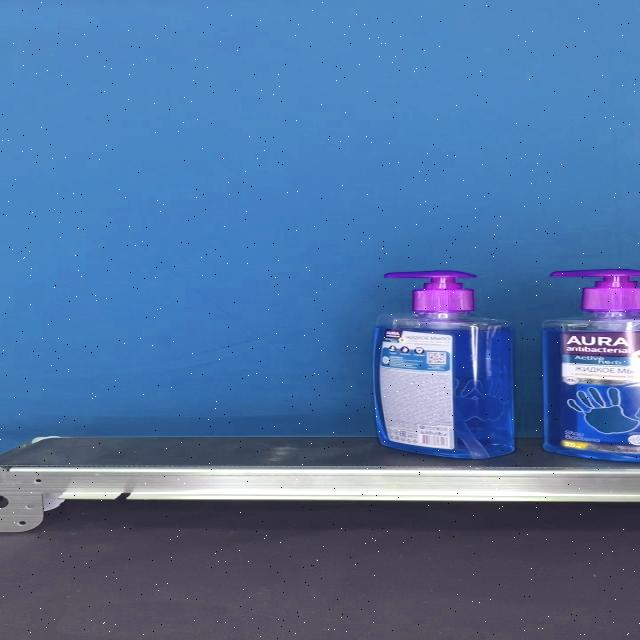Bottle: (372, 271, 514, 459)
Cap: (383, 271, 476, 313)
